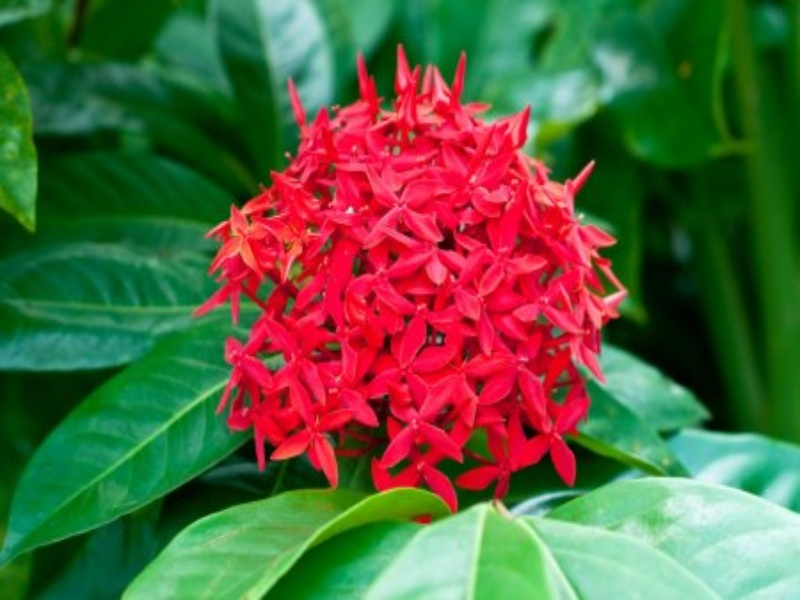Ixora: (179, 42, 644, 517)
